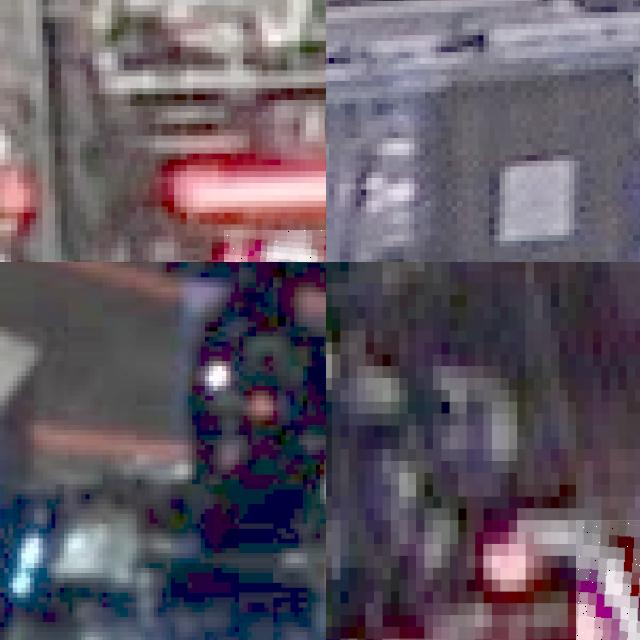R1: (576, 520, 640, 640)
R2: (224, 230, 326, 262)
